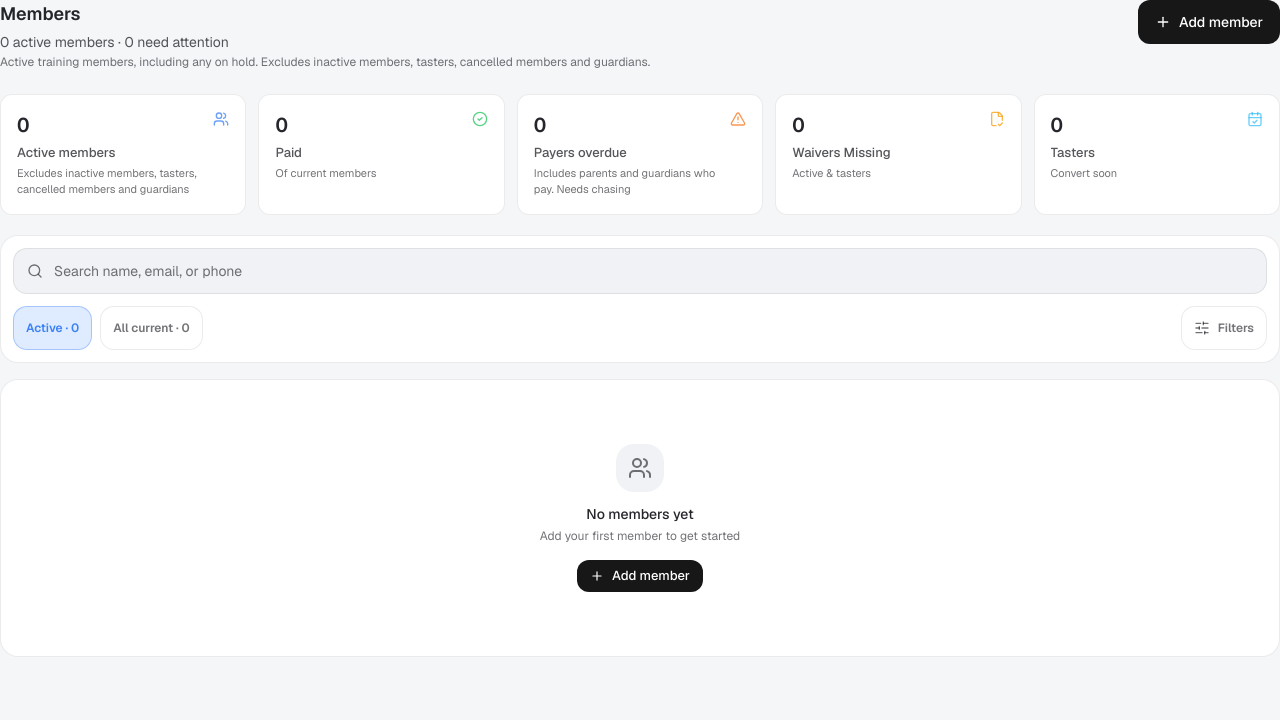
Scenario: add-member membership dropdown › says the gym has no tiers yet, and points at where to create them
Click the button "Add member" in the row of "need attention".
click(1209, 22)  # box [1138,0,1279,44]
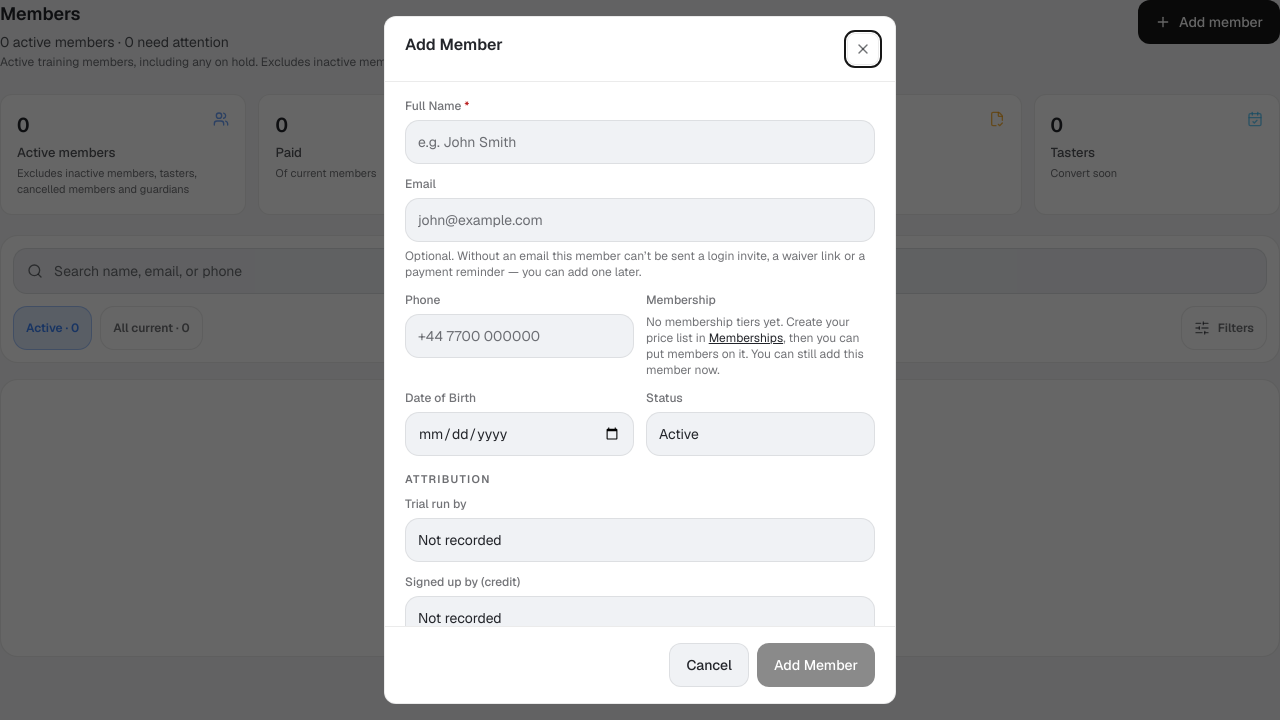
Now the link to "/dashboard/memberships" is shown, box [709,330,783,346]
